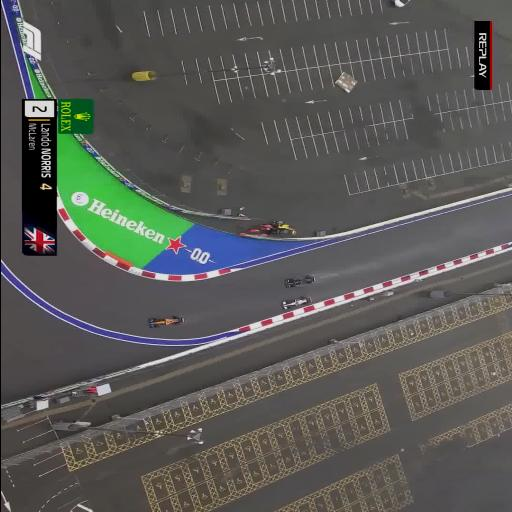f1_car: (281, 296, 311, 310), (148, 316, 183, 327), (285, 275, 315, 287)
